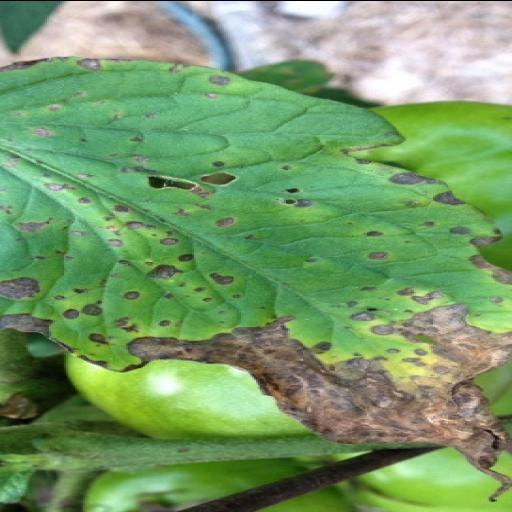Septoria: (7, 59, 512, 497)
